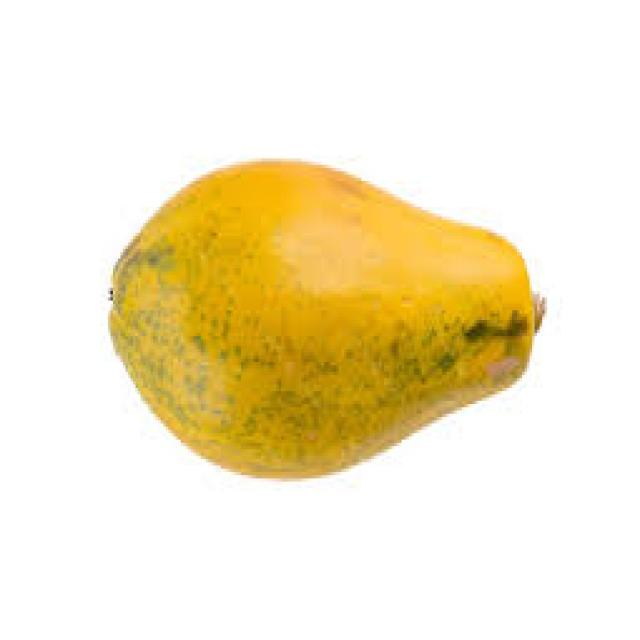Papaya: (107, 160, 531, 473)
